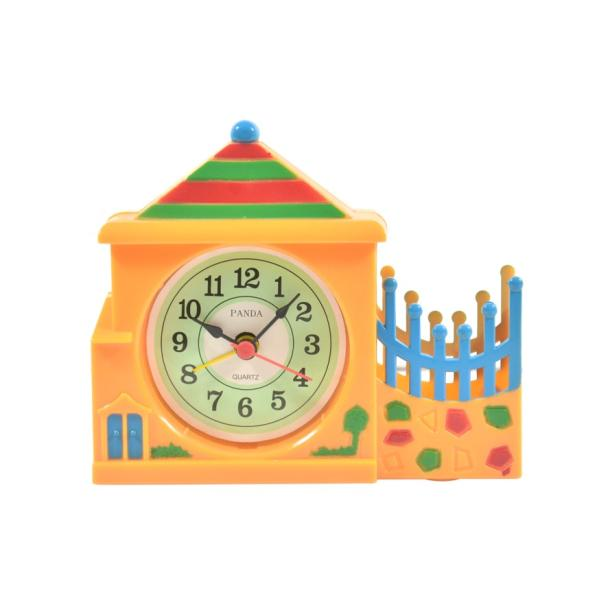Jam: (136, 239, 354, 460)
